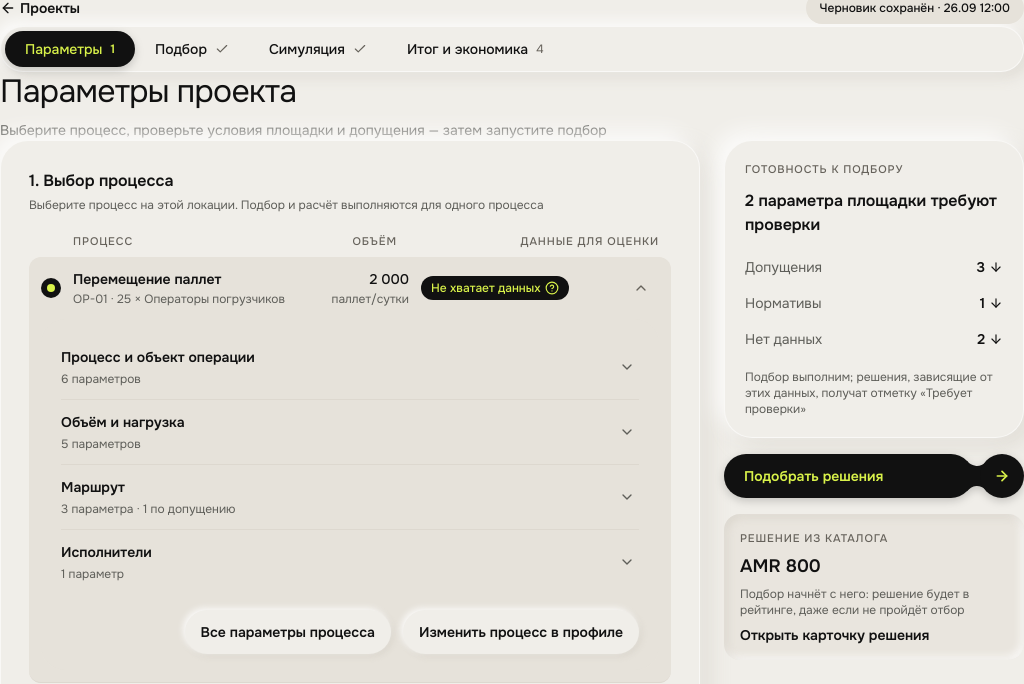
Test case: Шаг 1 «Параметры проекта» (доска 16325, экран 1.1; PRD 11.2) › «↓» в поповере статуса раскрывает группу со значением
Click the button with aria-label "Не хватает данных: Перемещение паллет" at (495, 288), box [421,276,568,300]
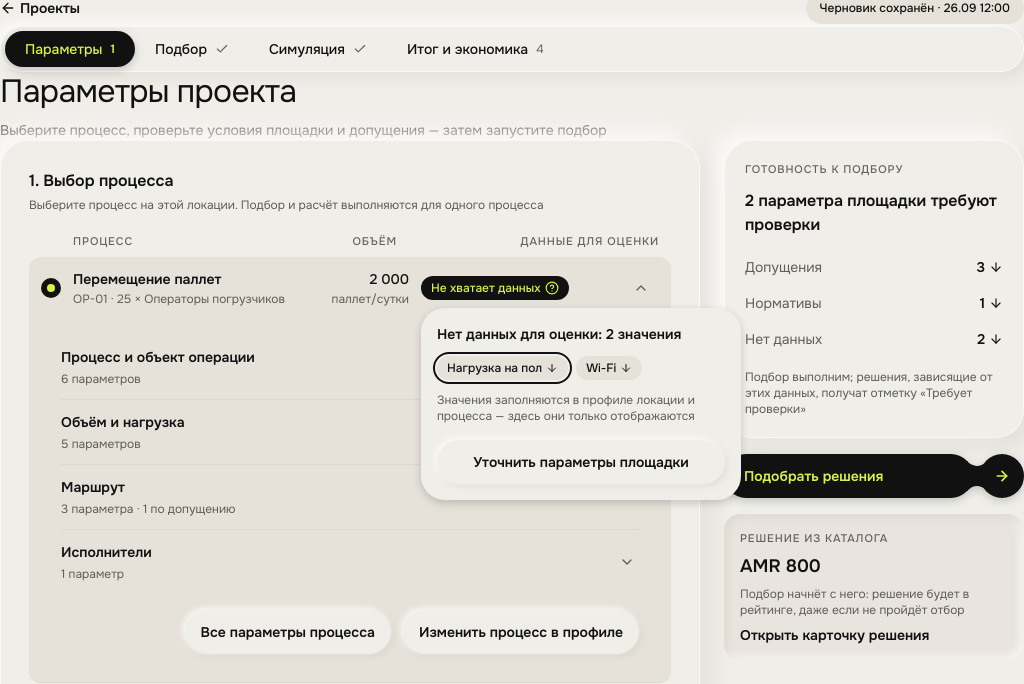
Click the button with aria-label "Перейти к значению: нагрузка на пол" at (503, 368), box [437,356,568,380]
(page scrolled)
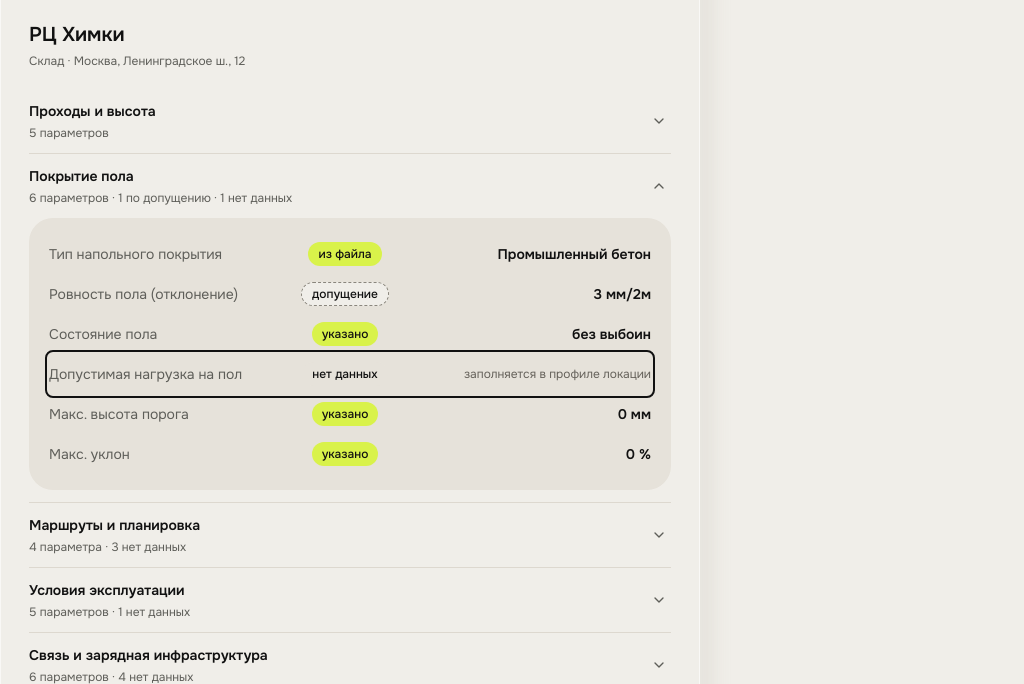
Now the button "Покрытие пола 6 параметров · 1 по допущению · 1 нет данных" is expanded, box [29,166,671,206]
